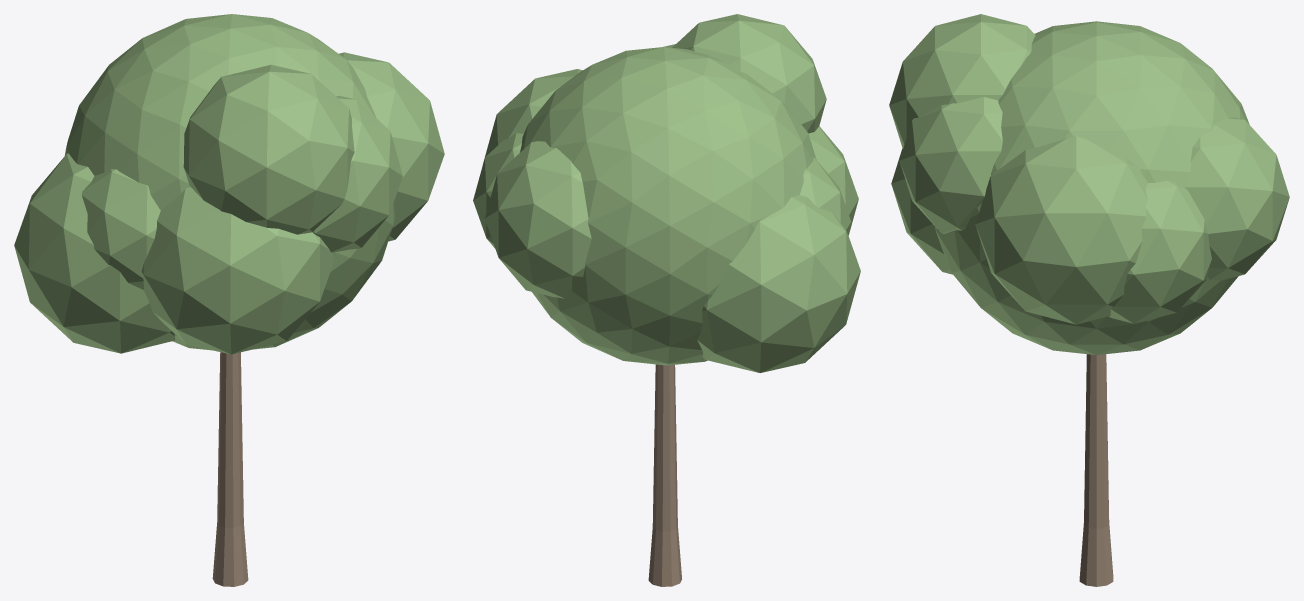
File: tree.glb
3 views of the same model, side by side, from view 1: azimuth 30°, elevation 25°; view 2: azimuth 150°, elevation 25°; view 3: azimuth 270°, elevation 25° (orthographic). The views are drawn at different scales.
Parts seen in each view (by area): view 1: tree_leaf, tree_bark; view 2: tree_leaf, tree_bark; view 3: tree_leaf, tree_bark.
Part boxes in pixels (x1,y1,x2,y2): tree_leaf: (14,14,444,354); tree_bark: (212,352,248,586); tree_leaf: (473,14,860,372); tree_bark: (648,364,681,586); tree_leaf: (889,14,1289,355); tree_bark: (1079,354,1113,586).
Size of the model in its own units: 4.99 by 6.84 by 4.53.
